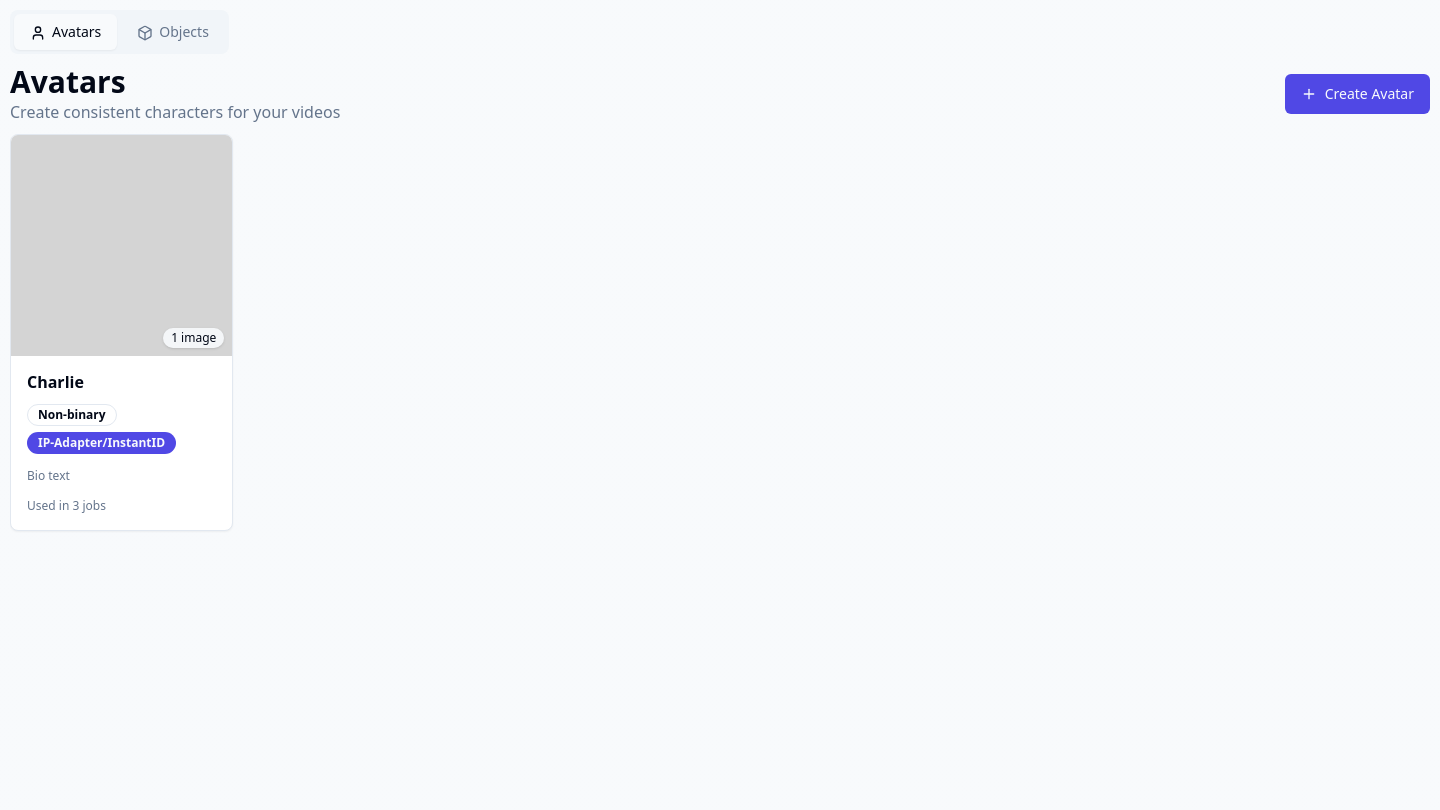
Avatars Page › opens edit modal with pre-filled data when clicking an avatar card
expect the heading "Charlie" is shown: met, box [27,371,84,393]
Click the button "Charlie". click: (122, 332)
box: [10,134,233,531]
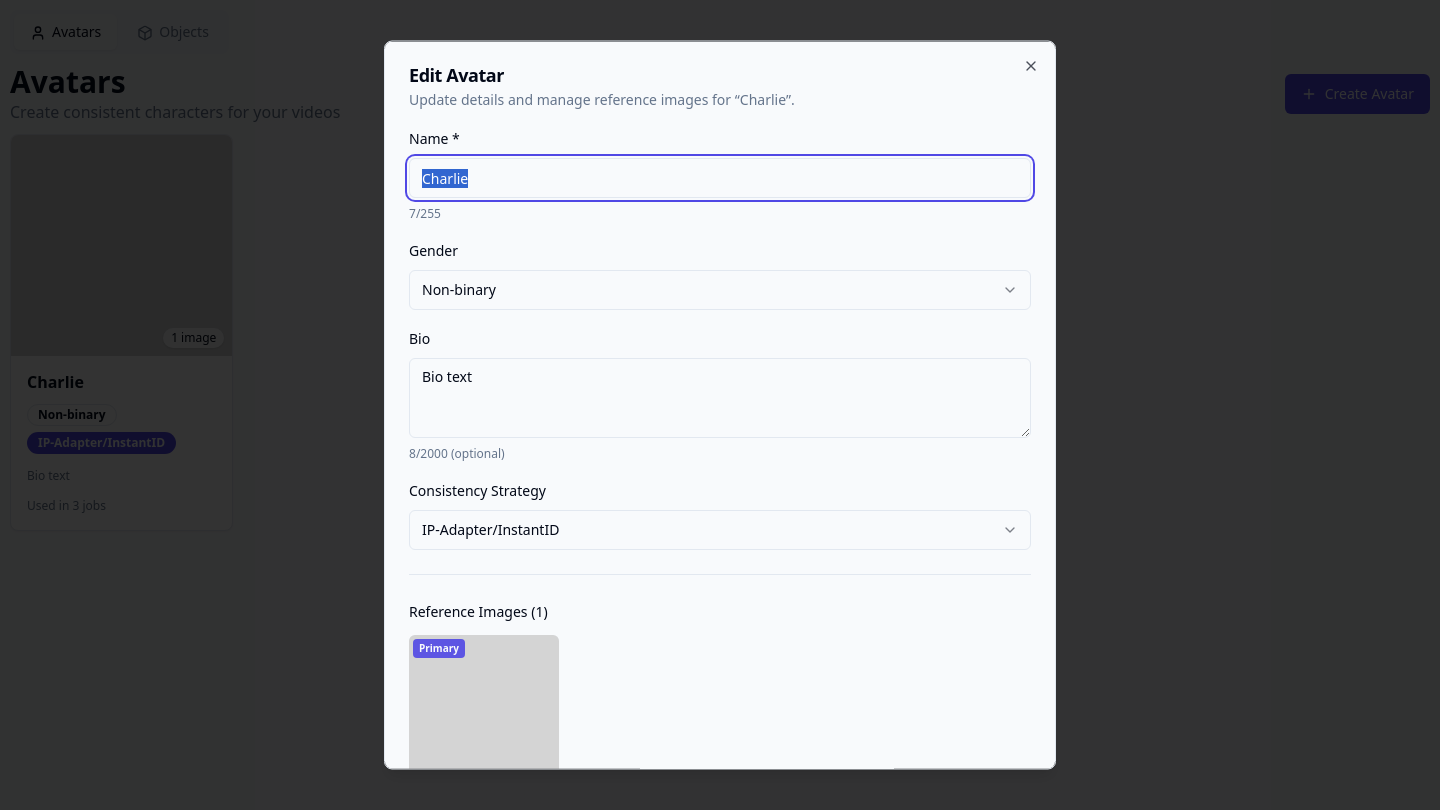
expect the heading "Edit Avatar" is shown: met, box [409,62,504,86]
expect the field showing "Charlie" is shown: met, box [409,158,1031,198]
